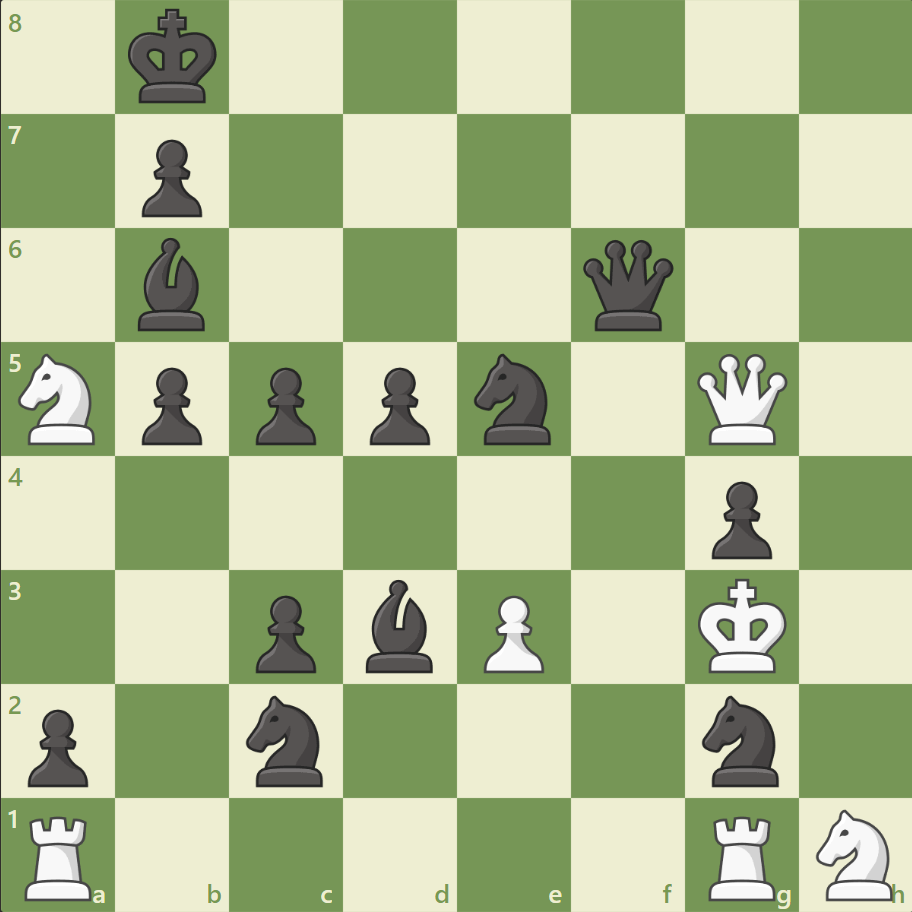K: (692, 571, 792, 679)
N: (11, 348, 108, 450), (806, 802, 903, 904)
P: (474, 586, 549, 677)
Q: (691, 349, 790, 449)
R: (19, 806, 102, 904), (700, 806, 783, 904)
b: (131, 233, 215, 336), (358, 574, 442, 676)
k: (124, 4, 224, 112)
n: (238, 688, 335, 791), (692, 688, 789, 791), (465, 348, 562, 450)
p: (133, 132, 208, 223), (133, 359, 208, 450), (247, 359, 322, 450), (701, 473, 776, 564), (247, 586, 322, 677), (20, 700, 95, 791), (361, 359, 435, 450)
q: (578, 236, 677, 335)
